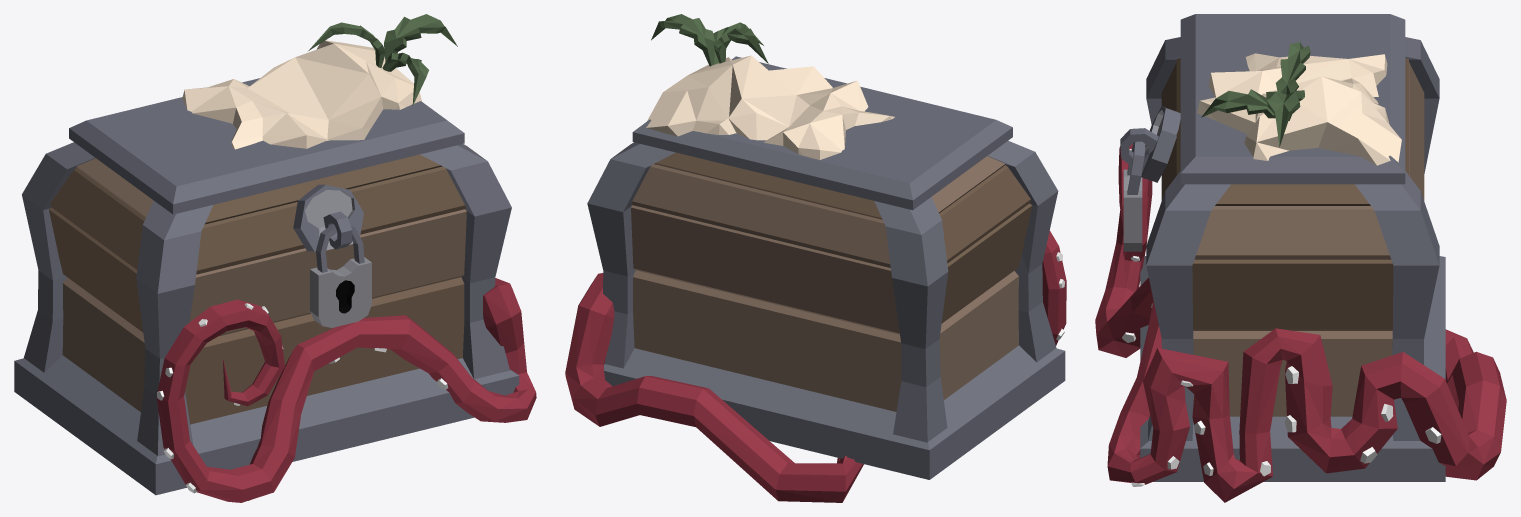
File: _trunk_12.fbx
3 views of the same model, side by side, from view 1: azimuth 30°, elevation 25°; view 2: azimuth 150°, elevation 25°; view 3: azimuth 270°, elevation 25° (orthographic). The views are drawn at different scales.
Visible parts, largest first — view 1: _Trunk_12; view 2: _Trunk_12; view 3: _Trunk_12.
Part boxes in pixels (left/top/right/bottom): _Trunk_12: left=14, top=14, right=536, bottom=502; _Trunk_12: left=565, top=14, right=1066, bottom=502; _Trunk_12: left=1095, top=14, right=1506, bottom=502.
Bounding box in the file's own units: 103 × 98.75 × 85.67.
